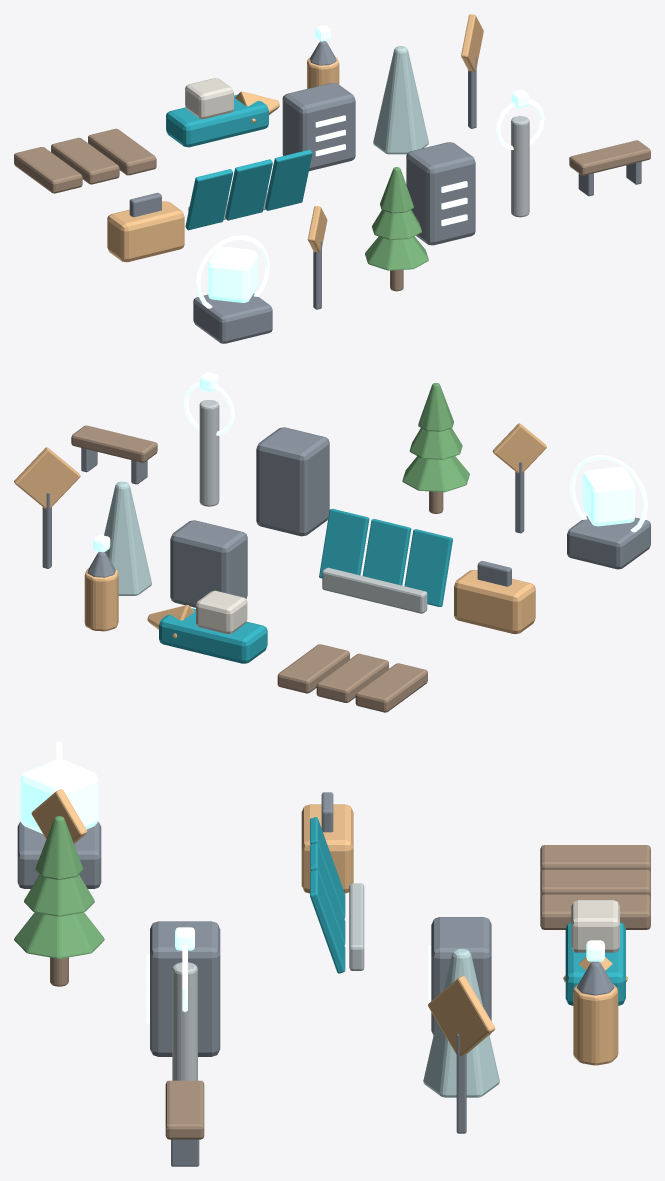
File: 14-story-props.glb
The picture shows the model from 3 angles, top to bottom: view 1: azimuth 30°, elevation 25°; view 2: azimuth 150°, elevation 25°; view 3: azimuth 270°, elevation 25°; orthographic projection. The views are drawn at different scales.
Visible parts, largest first — view 1: Story_City_Server, Story_Snow_CableBox, Story_Snow_Ice, Story_Desert_Toolbox, Story_Coast_Boat, Story_Forest_DataBase, Story_Forest_DataCube, Story_Desert_Solar_1, Story_Desert_Solar_0, Story_Desert_Solar_2, Story_Coast_Pier_0, Story_City_Signal (+15 smaller); view 2: Story_City_Server, Story_Snow_CableBox, Story_Desert_Toolbox, Story_Snow_Ice, Story_Coast_Boat, Story_Forest_DataBase, Story_Forest_DataCube, Story_Desert_Solar_0, Story_Desert_SolarFoot, Story_Desert_Solar_2, Story_Desert_Solar_1, Story_Snow_WarnSign (+18 smaller); view 3: Story_City_Server, Story_Snow_Ice, Story_Snow_CableBox, Story_Forest_DataCube, Story_Coast_Buoy, Story_Forest_Pine_0, Story_Snow_WarnSign, Story_Coast_Pier_1, Story_City_Signal, Story_Coast_Pier_0, Story_Desert_Toolbox, Story_Forest_DataBase (+14 smaller).
Boxes of the visible parts, x1,y1,x2,y2 form: Story_City_Server: [406, 142, 475, 245]; Story_Snow_CableBox: [282, 83, 355, 171]; Story_Snow_Ice: [373, 46, 428, 154]; Story_Desert_Toolbox: [107, 201, 184, 262]; Story_Coast_Boat: [166, 94, 268, 147]; Story_Forest_DataBase: [193, 293, 272, 343]; Story_Forest_DataCube: [207, 246, 258, 302]; Story_Desert_Solar_1: [225, 159, 272, 220]; Story_Desert_Solar_0: [185, 169, 233, 230]; Story_Desert_Solar_2: [265, 149, 312, 210]; Story_Coast_Pier_0: [14, 147, 82, 193]; Story_City_Signal: [511, 116, 529, 217]; Story_City_Server: [256, 427, 329, 536]; Story_Snow_CableBox: [170, 520, 247, 607]; Story_Desert_Toolbox: [454, 569, 535, 634]; Story_Snow_Ice: [104, 481, 151, 595]; Story_Coast_Boat: [159, 608, 267, 663]; Story_Forest_DataBase: [567, 516, 650, 569]; Story_Forest_DataCube: [582, 466, 635, 526]; Story_Desert_Solar_0: [404, 529, 452, 606]; Story_Desert_SolarFoot: [322, 567, 427, 613]; Story_Desert_Solar_2: [319, 508, 369, 578]; Story_Desert_Solar_1: [362, 519, 411, 585]; Story_Snow_WarnSign: [14, 447, 80, 508]; Story_City_Server: [150, 921, 220, 1056]; Story_Snow_Ice: [423, 948, 499, 1097]; Story_Snow_CableBox: [431, 917, 491, 1035]; Story_Forest_DataCube: [20, 759, 98, 833]; Story_Coast_Buoy: [573, 984, 618, 1065]; Story_Forest_Pine_0: [14, 912, 104, 958]; Story_Snow_WarnSign: [428, 976, 495, 1056]; Story_Coast_Pier_1: [540, 869, 650, 897]; Story_City_Signal: [172, 962, 197, 1080]; Story_Coast_Pier_0: [540, 845, 650, 872]; Story_Desert_Toolbox: [301, 804, 353, 893]; Story_Forest_DataBase: [17, 822, 101, 888].
Size of the model in its own units: 9.36 by 2.2 by 7.6.
